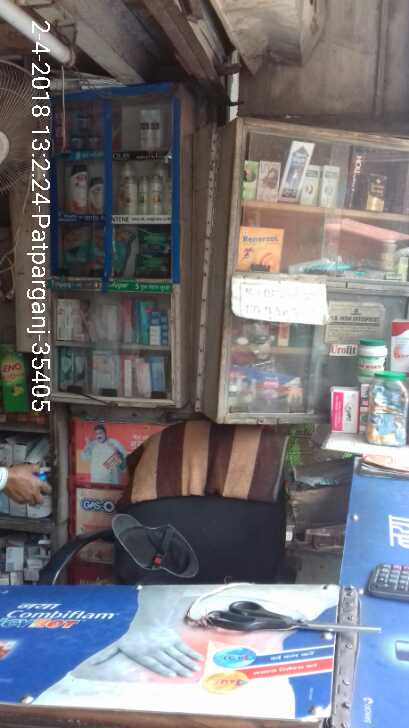vicks: (76, 111, 90, 130), (87, 131, 100, 150), (70, 132, 84, 149)
